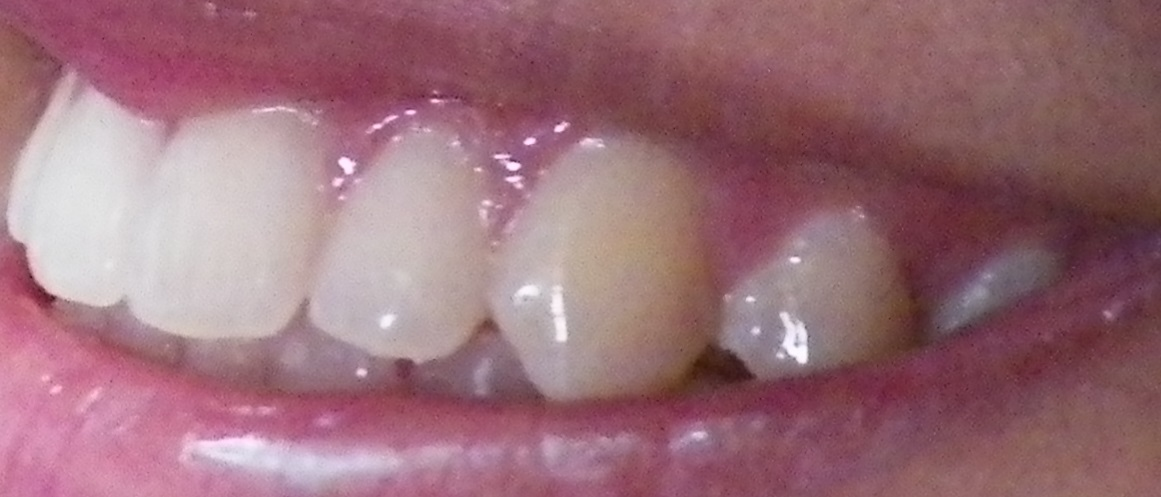boca: (3, 54, 1056, 409)
